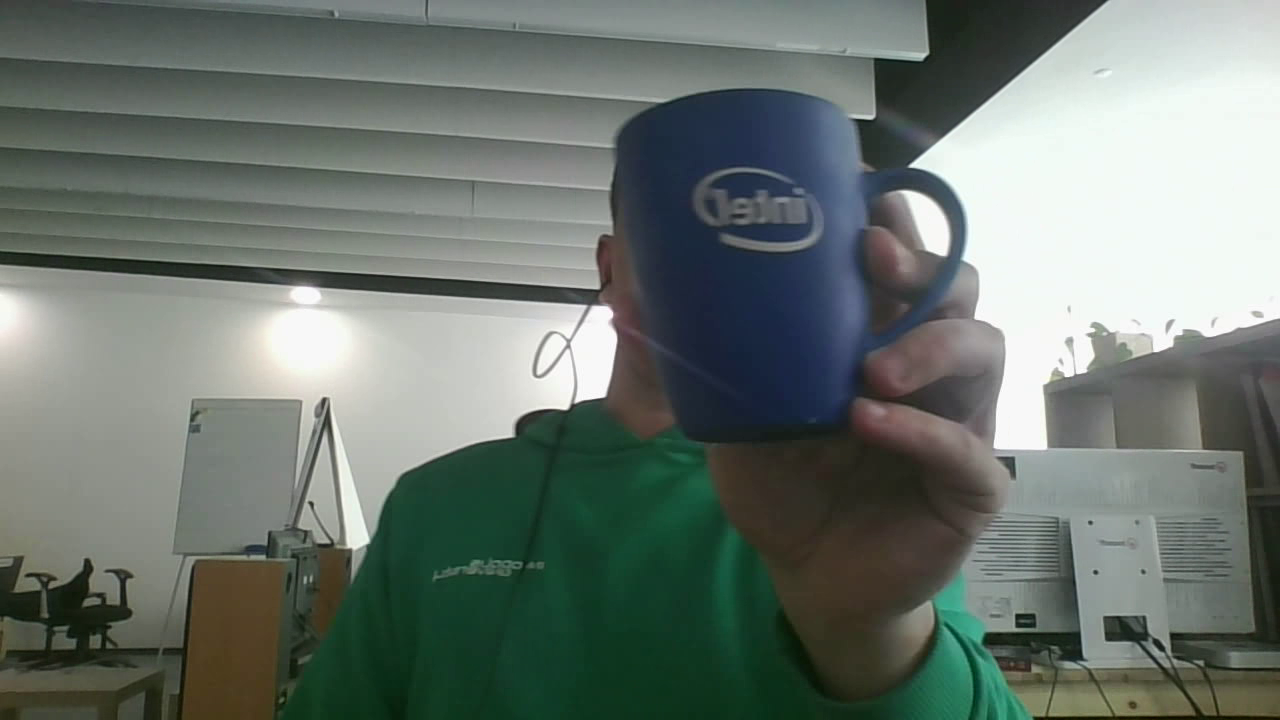cup: (608, 87, 972, 446)
